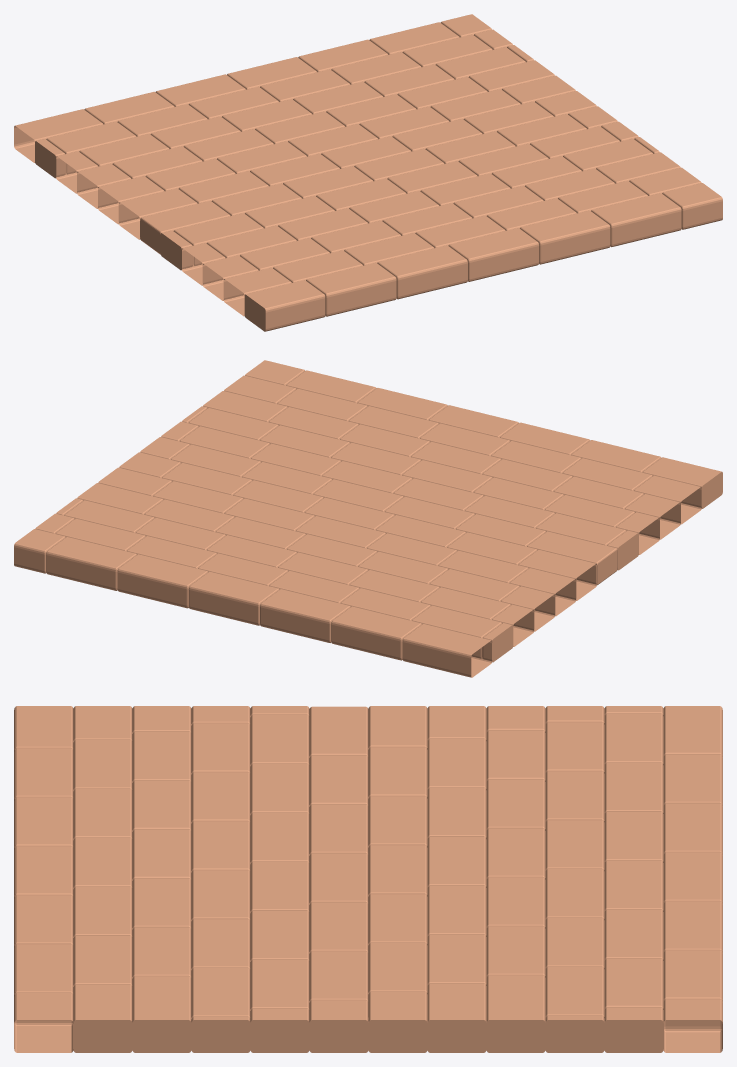
Rendered from Ghost Floor.fbx.
The picture shows the model from 3 angles, top to bottom: view 1: azimuth 30°, elevation 25°; view 2: azimuth 150°, elevation 25°; view 3: azimuth 270°, elevation 25°; orthographic projection. The views are drawn at different scales.
Parts seen in each view (by area): view 1: Cube.006; view 2: Cube.006; view 3: Cube.006.
Boxes of the visible parts, <box> form: Cube.006: <box>14,14,722,331</box>; Cube.006: <box>14,360,722,677</box>; Cube.006: <box>14,706,722,1052</box>.
Size of the model in its own units: 1071 by 52.32 by 1022.
